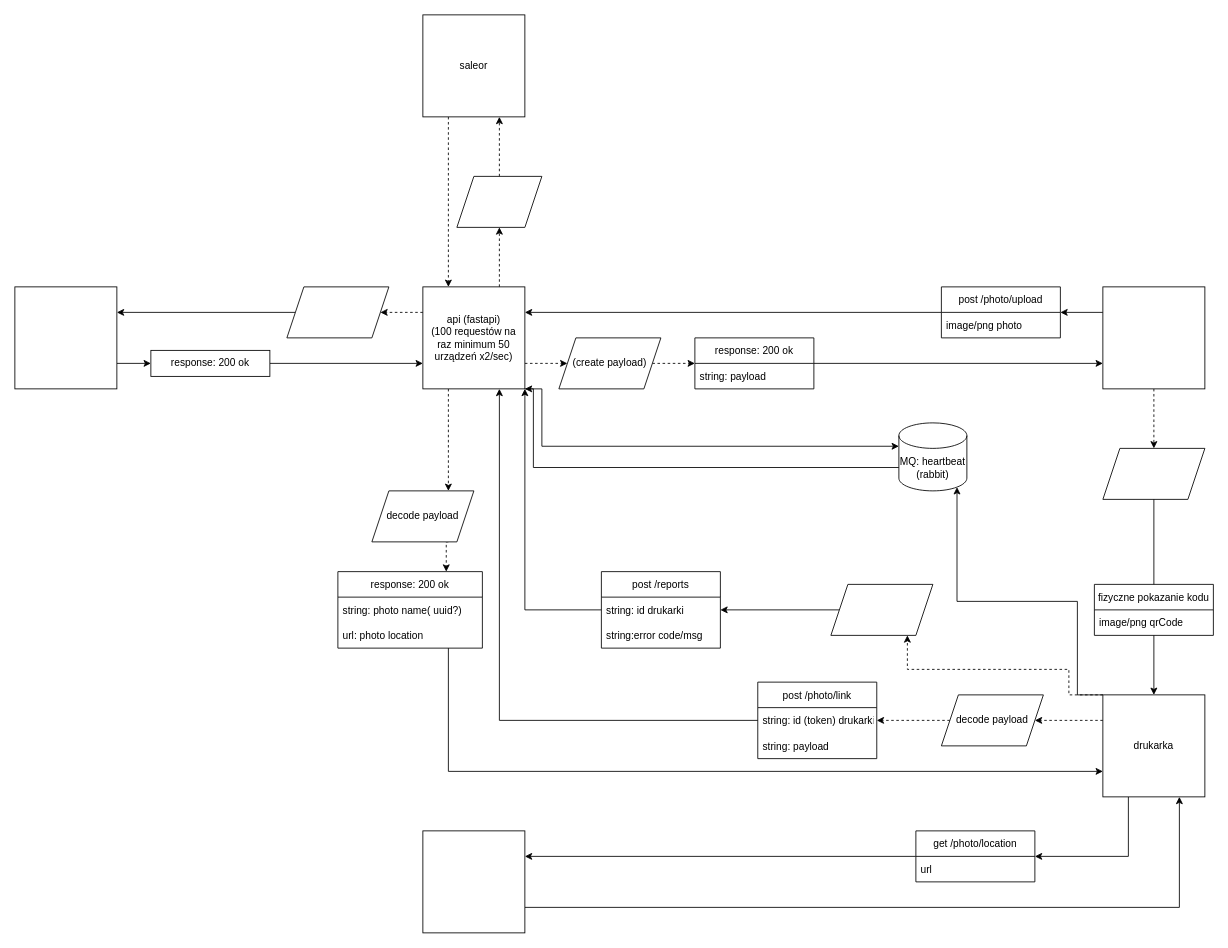
Some shapes in this 1228 by 948 pixel diagram are drawn without their labels. The centre of each missing label's shape, as x and y in pixels:
(creates qr code): the point at 1153,473
abonament: verify: the point at 499,201
api (mender): the point at 65,337
brak papieru: the point at 881,609
Frontend: the point at 1153,337
photo storage: the point at 473,881
printer: correct status: the point at 337,312
